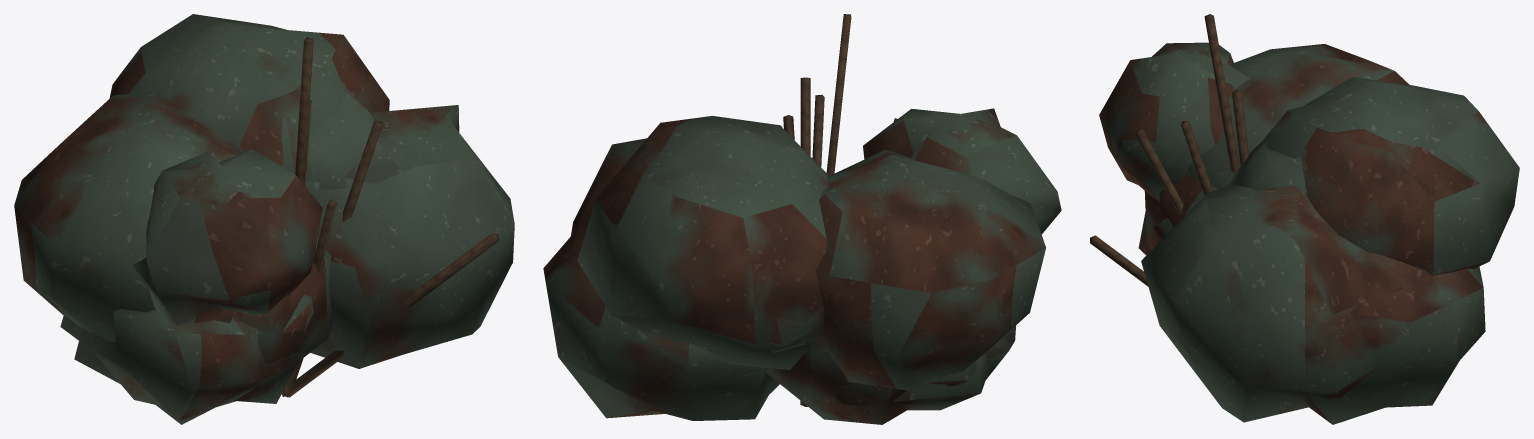
The model's file is NT02_overgrown_bush_v4.glb.
3 views of the same model, side by side, from view 1: azimuth 30°, elevation 25°; view 2: azimuth 150°, elevation 25°; view 3: azimuth 270°, elevation 25° (orthographic). The views are drawn at different scales.
Visible parts, largest first — view 1: NT02_overgrown_bush_v4; view 2: NT02_overgrown_bush_v4; view 3: NT02_overgrown_bush_v4.
Part boxes in pixels (x1,y1,x2,y2): NT02_overgrown_bush_v4: (14,14,514,424); NT02_overgrown_bush_v4: (543,14,1061,424); NT02_overgrown_bush_v4: (1090,14,1519,424).
Bounding box in the file's own units: 1.5 × 1.2 × 1.32.
Materials: 2 (2 with a texture image).
